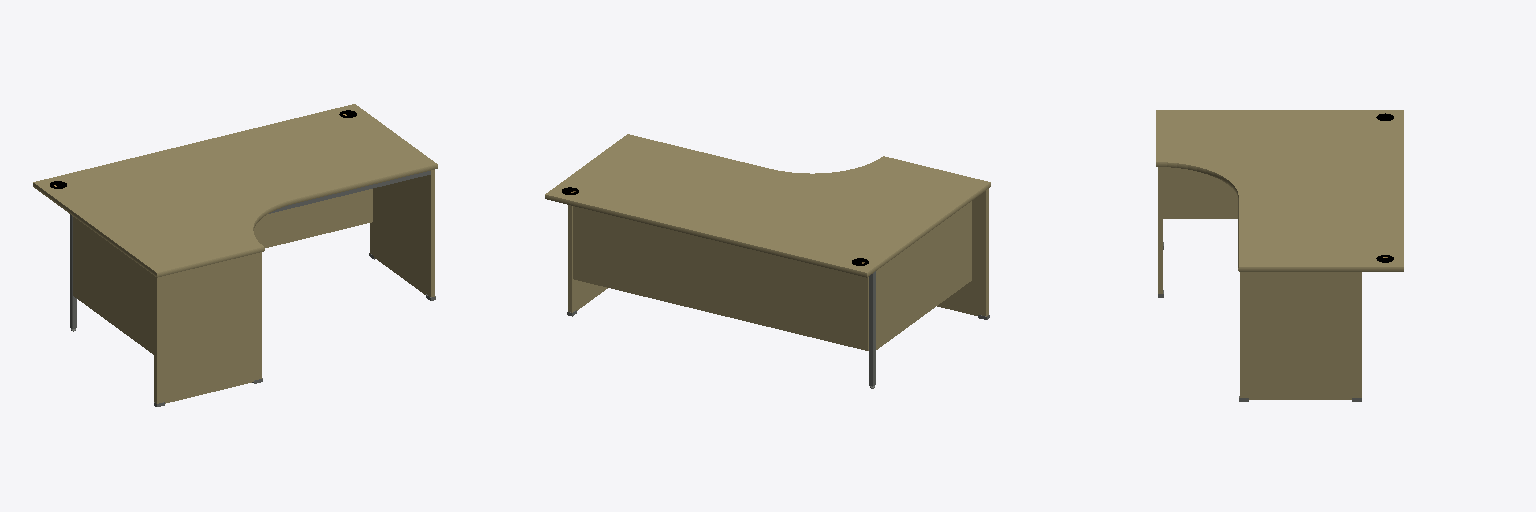
File: computer+desk+final.obj
3 renders of one model, left to right at view 1: azimuth 30°, elevation 25°; view 2: azimuth 150°, elevation 25°; view 3: azimuth 270°, elevation 25°, orthographic.
Size of the model in its own units: 1804 by 727 by 1204.